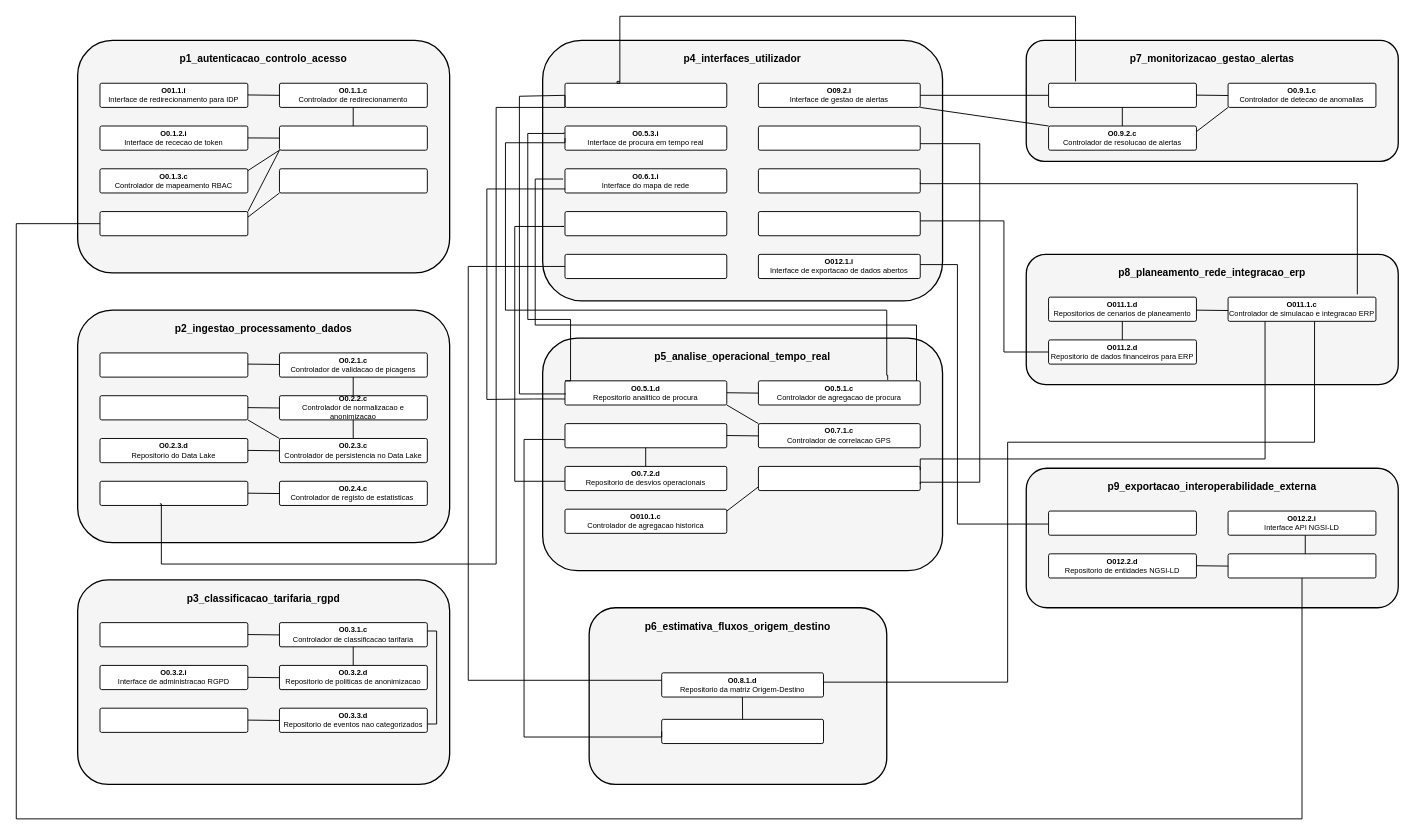
The diagram is 1415 pixels wide and 836 high, and some of its shapes have lost their labels. The centre of each missing label's shape, as x and y in pixels:
"O0.1.2.c Controlador de validacao de token" belongs at [353,137].
"O0.1.4.c Controlador de registo de auditoria" belongs at [173,223].
"O0.1.4.d Repositorio de eventos de auditoria" belongs at [353,180].
"O0.2.1.d Repositorio de validacao" belongs at [173,364].
"O0.2.2.d Repositorio de dados normalizados" belongs at [173,407].
"O0.2.4.d Repositorio de estatisticas de ingestao" belongs at [173,492].
"O0.3.1.d Repositorio de mapeamentos tarifarios" belongs at [173,634].
"O0.3.3.i Interface de revisao de eventos" belongs at [173,719].
"O0.4.1.i Interface da dashboard principal" belongs at [645,94].
"O0.7.1.d Repositorio de correlacoes e qualidade GPS" belongs at [645,435].
"O0.7.2.i Interface de analise de desvio operacional" belongs at [645,223].
"O0.8.1.c Controlador de calculo da matriz O-D" belongs at [742,731].
"O0.8.2.i Interface de visualizacao e exportacao O-D" belongs at [645,266].
"O0.9.1.d Repositorio de anomalias e alertas" belongs at [1122,94].
"O010.1.d Repositorio de historico consolidado" belongs at [838,478].
"O010.2.i Interface de consulta de historico" belongs at [838,137].
"O011.1.i Interface de simulacao de cenarios" belongs at [838,180].
"O011.2.i Interface de integracao ERP" belongs at [838,223].
"O012.1.d Repositorio de exportacoes de dados abertos" belongs at [1122,522].
"O012.2.c Controlador de integracao NGSI-LD" belongs at [1301,565].
